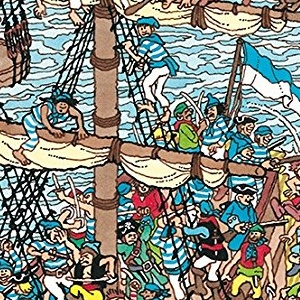Wenda: (118, 124, 182, 176)
